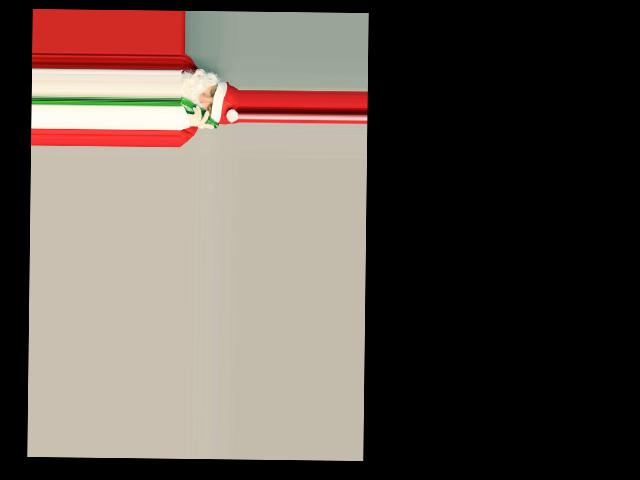beer: (179, 98, 218, 129)
